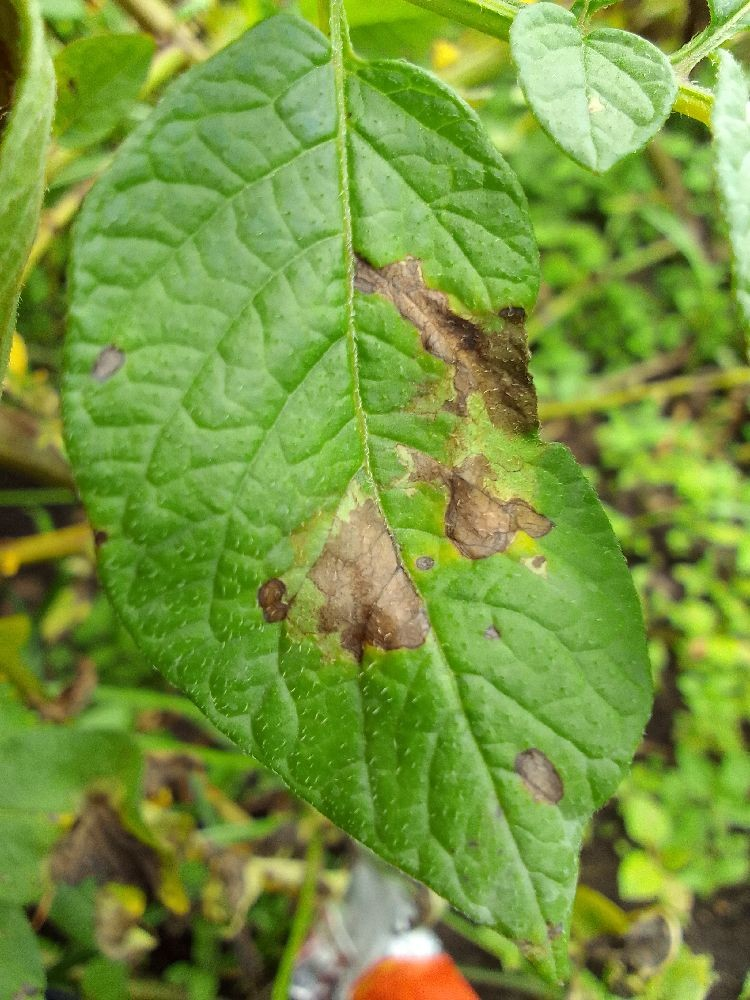late_blight: (14, 693, 415, 999), (0, 206, 154, 666), (547, 773, 750, 1000), (290, 479, 447, 687)
